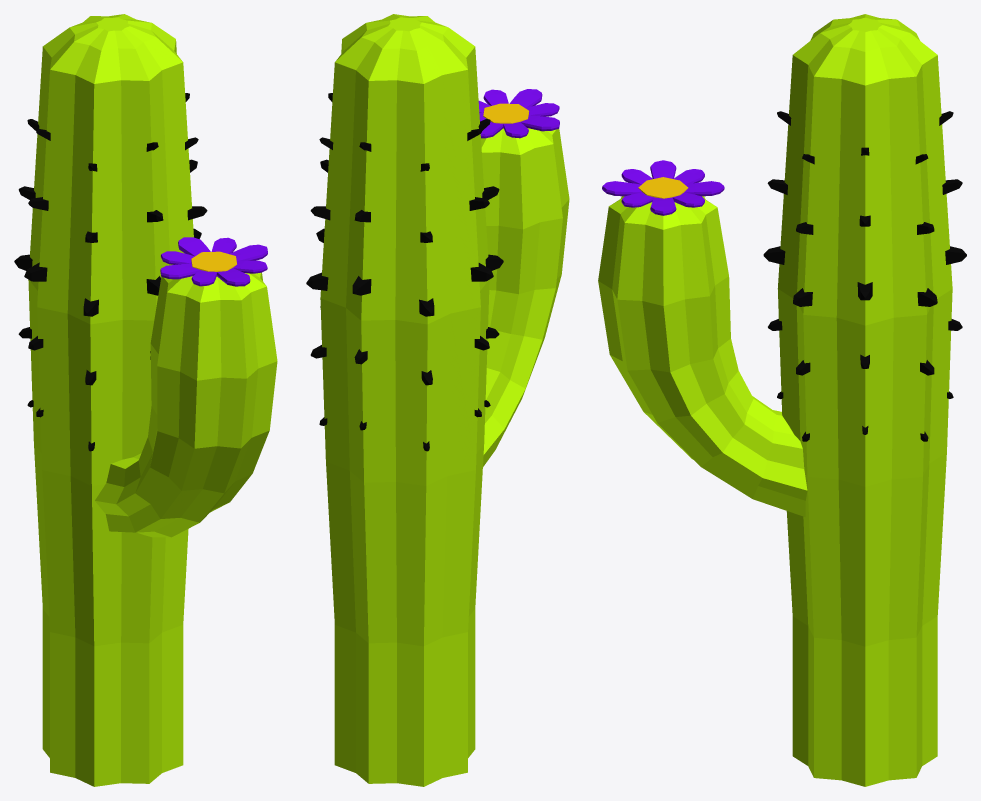
File: Cardon04_01Brazos_Flor_Morada.fbx
The picture shows the model from 3 angles, left to right: view 1: azimuth 30°, elevation 25°; view 2: azimuth 150°, elevation 25°; view 3: azimuth 270°, elevation 25°; orthographic projection.
Visible parts, largest first — view 1: Cactus, Flor_Morada, Espinas; view 2: Cactus, Espinas, Flor_Morada; view 3: Cactus, Espinas, Flor_Morada.
Part boxes in pixels (x1=…): Cactus: x1=28, y1=14, x2=277, y2=786; Flor_Morada: x1=160, y1=237, x2=267, y2=286; Espinas: x1=14, y1=93, x2=207, y2=451; Cactus: x1=320, y1=14, x2=569, y2=786; Espinas: x1=306, y1=93, x2=503, y2=451; Flor_Morada: x1=478, y1=89, x2=559, y2=138; Cactus: x1=598, y1=14, x2=952, y2=786; Espinas: x1=763, y1=111, x2=966, y2=441; Flor_Morada: x1=602, y1=160, x2=724, y2=215.
Bounding box in the file's own units: 53.18 × 211 × 96.46.
